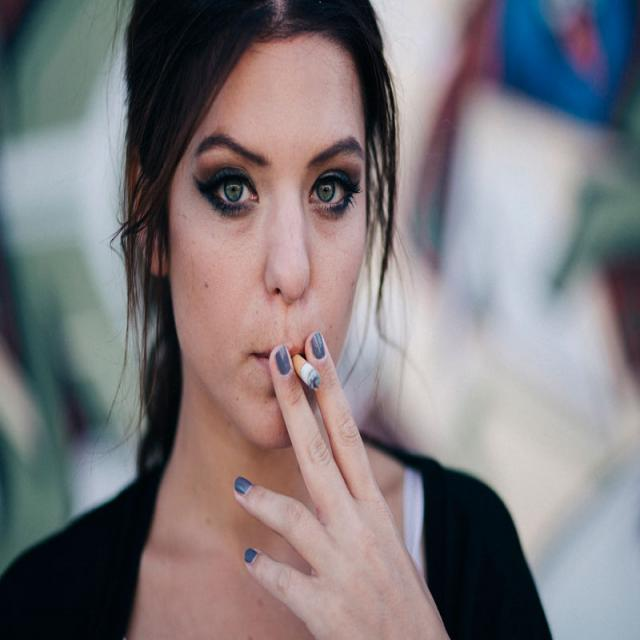smoking: (288, 352, 321, 392)
